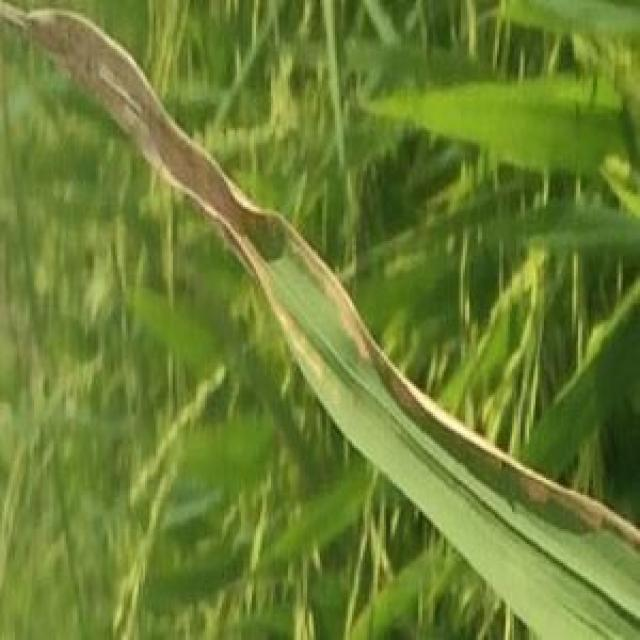Bacterial_Blight: (0, 0, 640, 542), (0, 0, 318, 375)
